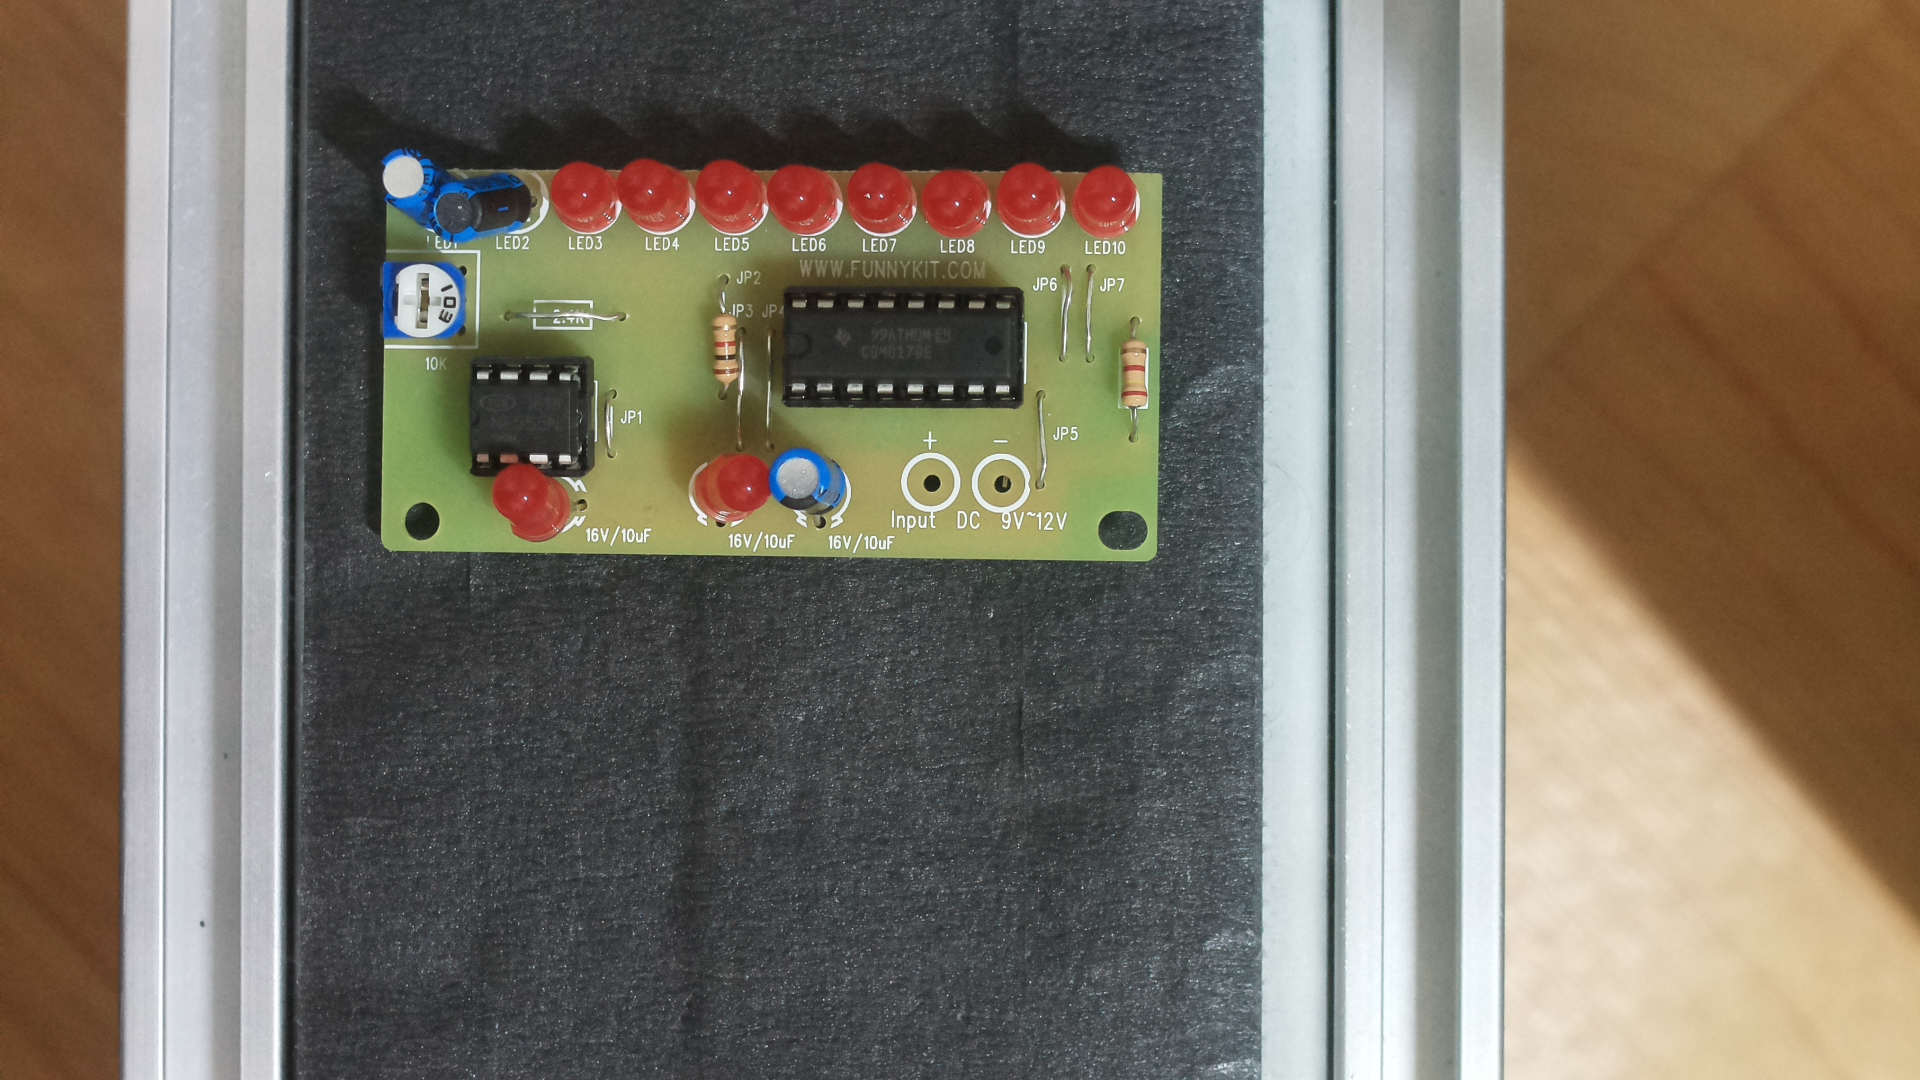B_Misordered: (364, 141, 1176, 568)
